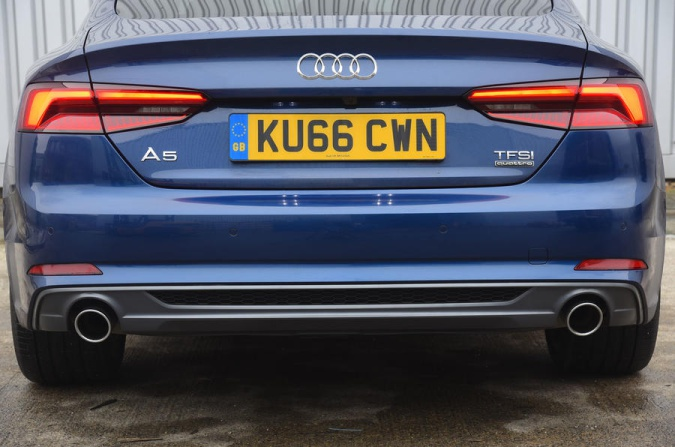audi: (292, 45, 381, 85)
